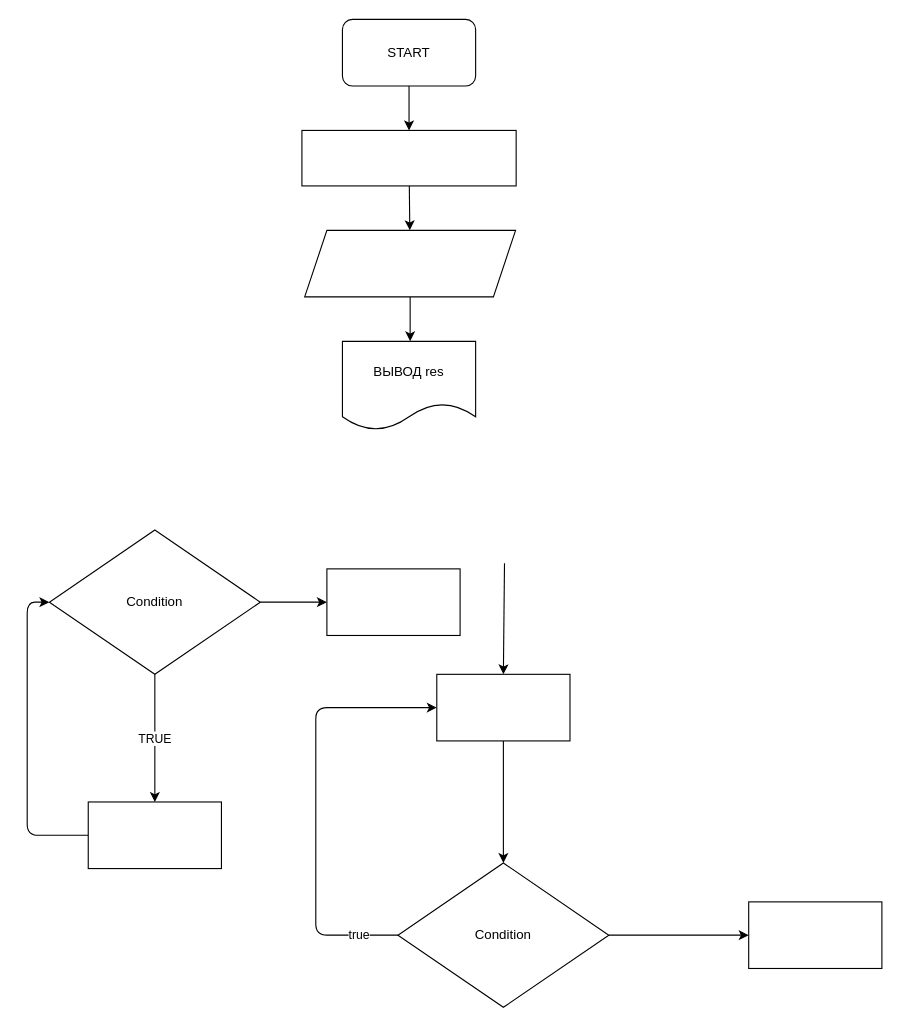
The diagram is 901 pixels wide and 1027 high, and some of its shapes have lost their labels. Each missing label, with the centre of its shape:
"count = 0 res = 1 * Sqrt ( 2 )" goes at (408,157).
"ВВОД count" goes at (410,263).
